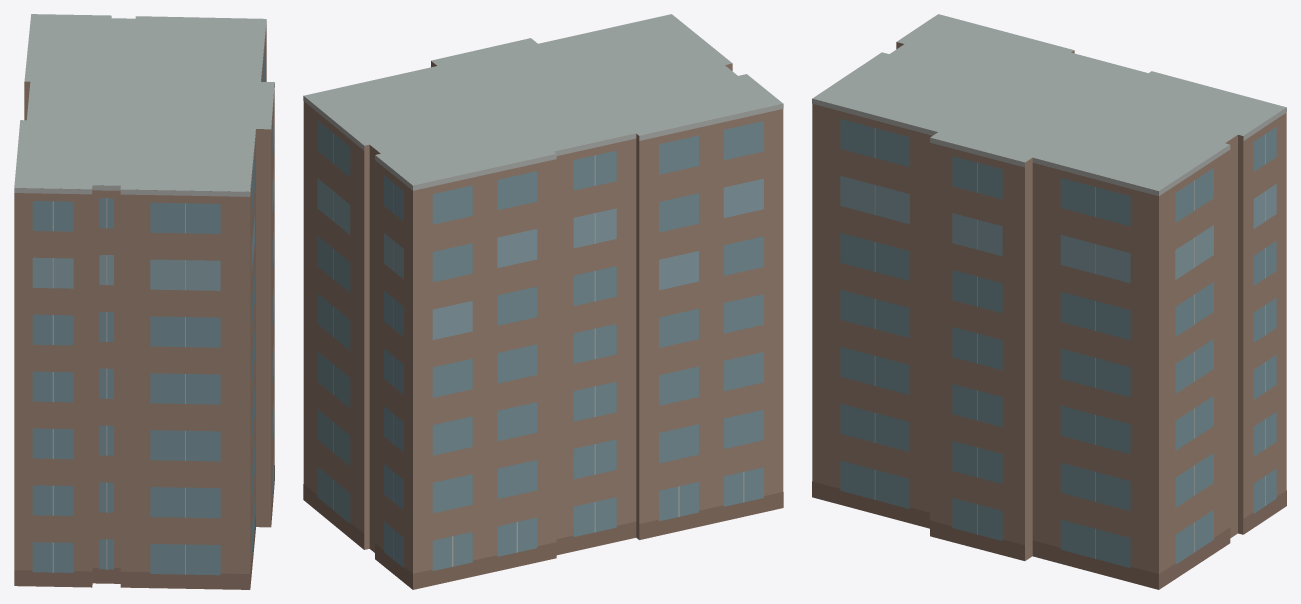
The model's file is survey-upis-33036545.glb.
3 renders of one model, left to right at view 1: azimuth 30°, elevation 25°; view 2: azimuth 150°, elevation 25°; view 3: azimuth 270°, elevation 25°, orthographic.
Parts seen in each view (by area): view 1: survey-upis-33036545.tmp; view 2: survey-upis-33036545.tmp; view 3: survey-upis-33036545.tmp.
Part boxes in pixels (x1,y1,x2,y2): survey-upis-33036545.tmp: [14, 14, 274, 589]; survey-upis-33036545.tmp: [303, 14, 783, 589]; survey-upis-33036545.tmp: [812, 14, 1286, 589].
Bounding box in the file's own units: 18.31 × 19.2 × 20.72.
